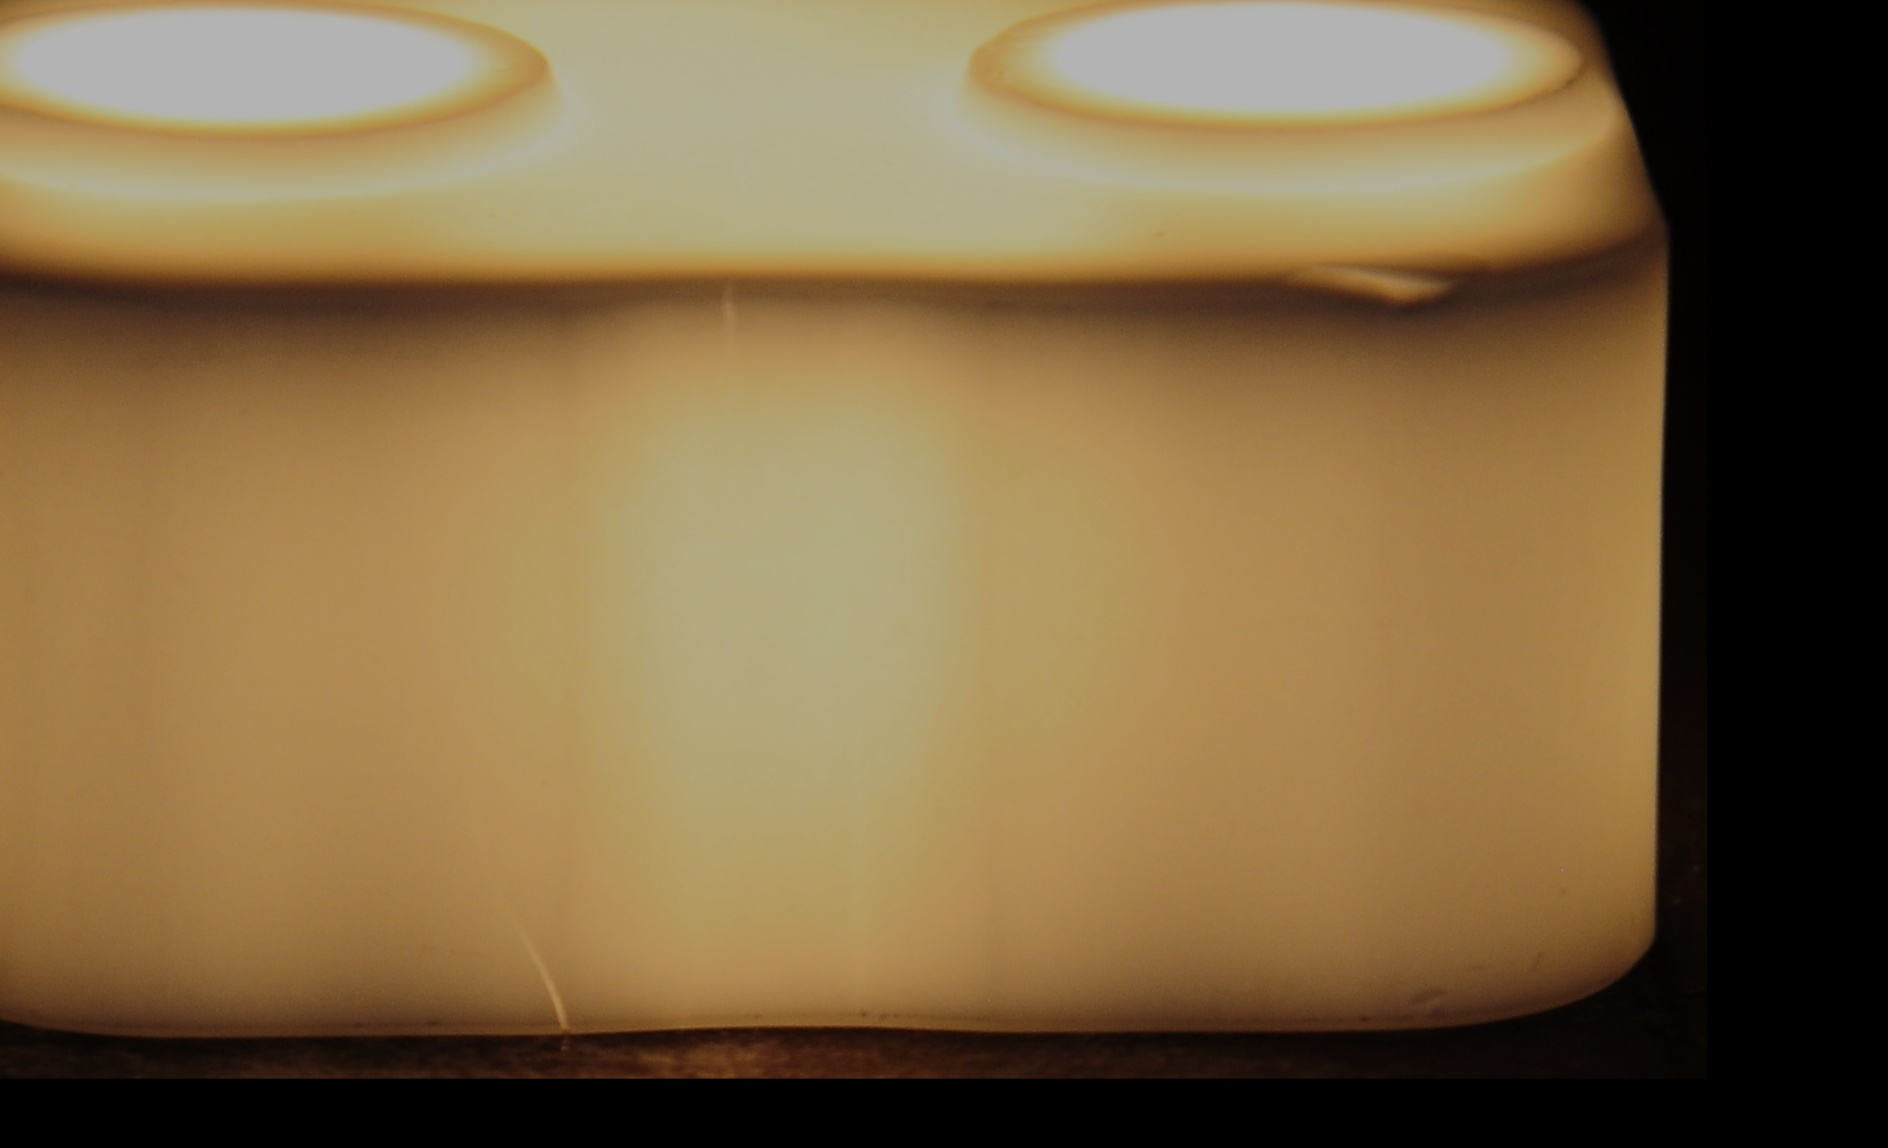chipping: (1246, 255, 1490, 328)
flaw: (506, 870, 579, 1033)
hiatus: (1386, 970, 1454, 1024)
scratch: (703, 272, 751, 413)
